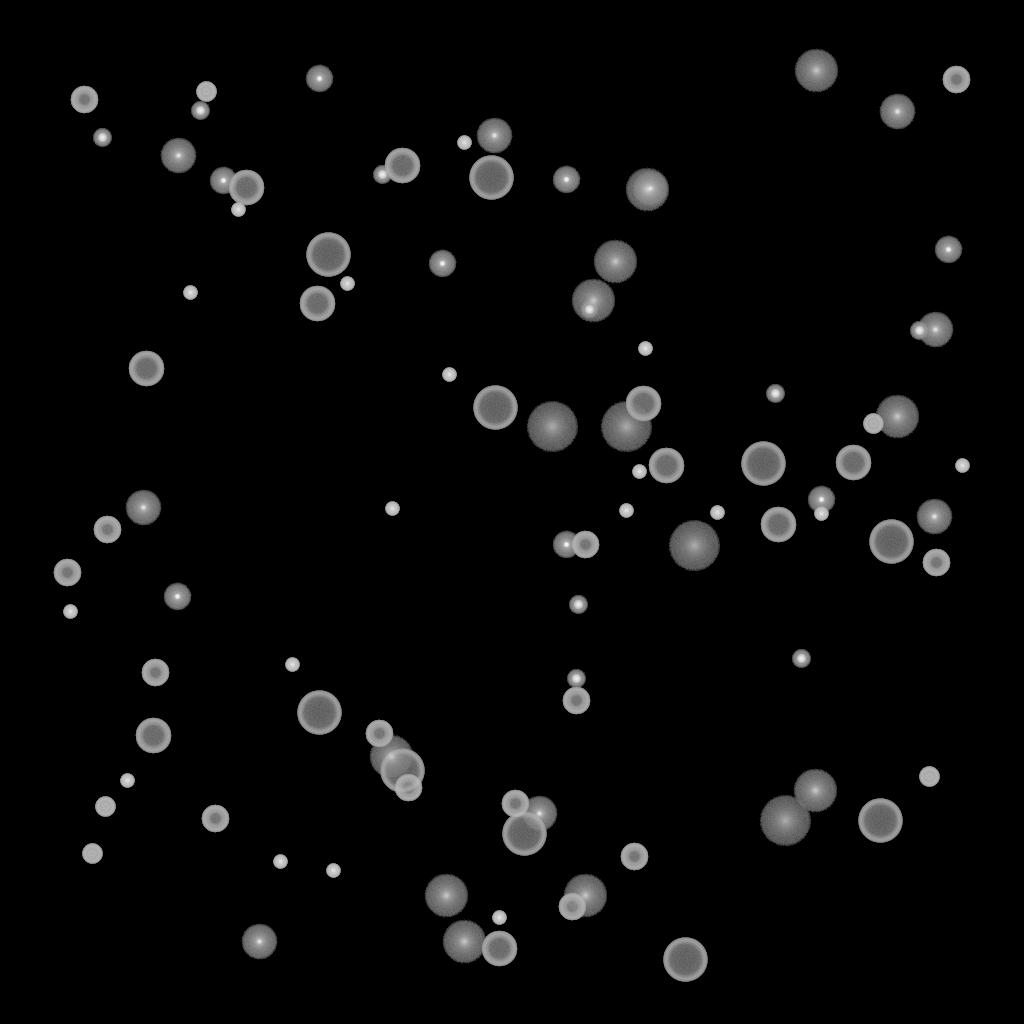depth:-10: (807, 486, 835, 514), (934, 236, 962, 264), (552, 166, 580, 194), (428, 250, 456, 278), (305, 65, 333, 93), (552, 531, 580, 559), (209, 167, 237, 195), (163, 583, 191, 611)
depth:-20: (93, 129, 111, 147), (191, 102, 209, 120), (910, 322, 928, 340), (580, 301, 598, 319), (569, 596, 587, 614), (373, 166, 391, 184), (792, 650, 810, 668), (567, 670, 585, 688), (766, 385, 784, 403)
depth:-30: (814, 507, 828, 521), (619, 504, 633, 518), (231, 203, 245, 217), (120, 774, 134, 788), (63, 605, 77, 619), (385, 502, 399, 516), (632, 465, 646, 479), (457, 136, 471, 150), (183, 286, 197, 300), (340, 277, 354, 291), (326, 864, 340, 878), (955, 459, 969, 473), (442, 368, 456, 382), (492, 911, 506, 925), (285, 658, 299, 672), (638, 342, 652, 356), (273, 855, 287, 869), (710, 506, 724, 520)
depth:-40: (919, 767, 939, 787), (863, 414, 883, 434), (196, 82, 216, 102), (95, 797, 115, 817), (82, 844, 102, 864)
depth:-50: (620, 843, 648, 871), (394, 774, 422, 802), (942, 66, 970, 94), (141, 659, 169, 687), (365, 720, 393, 748), (562, 687, 590, 715), (53, 559, 81, 587), (201, 805, 229, 833), (70, 86, 98, 114), (93, 516, 121, 544), (558, 893, 586, 921), (571, 531, 599, 559), (922, 549, 950, 577), (501, 790, 529, 818)
depth:-60: (648, 448, 684, 484), (481, 931, 517, 967), (228, 170, 264, 206), (128, 351, 164, 387), (135, 718, 171, 754), (760, 507, 796, 543), (625, 386, 661, 422), (299, 286, 335, 322), (384, 148, 420, 184), (835, 445, 871, 481)
depth:-70: (297, 691, 341, 735), (502, 812, 546, 856), (306, 233, 350, 277), (663, 938, 707, 982), (380, 749, 424, 793), (869, 520, 913, 564), (469, 156, 513, 200), (858, 799, 902, 843), (473, 386, 517, 430), (741, 442, 785, 486)
depth:0: (879, 94, 915, 130), (125, 490, 161, 526), (917, 312, 953, 348), (916, 499, 952, 535), (241, 924, 277, 960), (632, 171, 668, 207), (160, 138, 196, 174), (476, 118, 512, 154), (521, 796, 557, 832)
depth:10: (369, 735, 413, 779), (563, 874, 607, 918), (571, 279, 615, 323), (793, 769, 837, 813), (424, 874, 468, 918), (875, 395, 919, 439), (593, 240, 637, 284), (625, 168, 669, 212), (442, 920, 486, 964), (794, 49, 838, 93)
depth:20: (759, 796, 811, 846), (526, 402, 578, 452), (668, 521, 720, 571), (600, 402, 652, 452)
